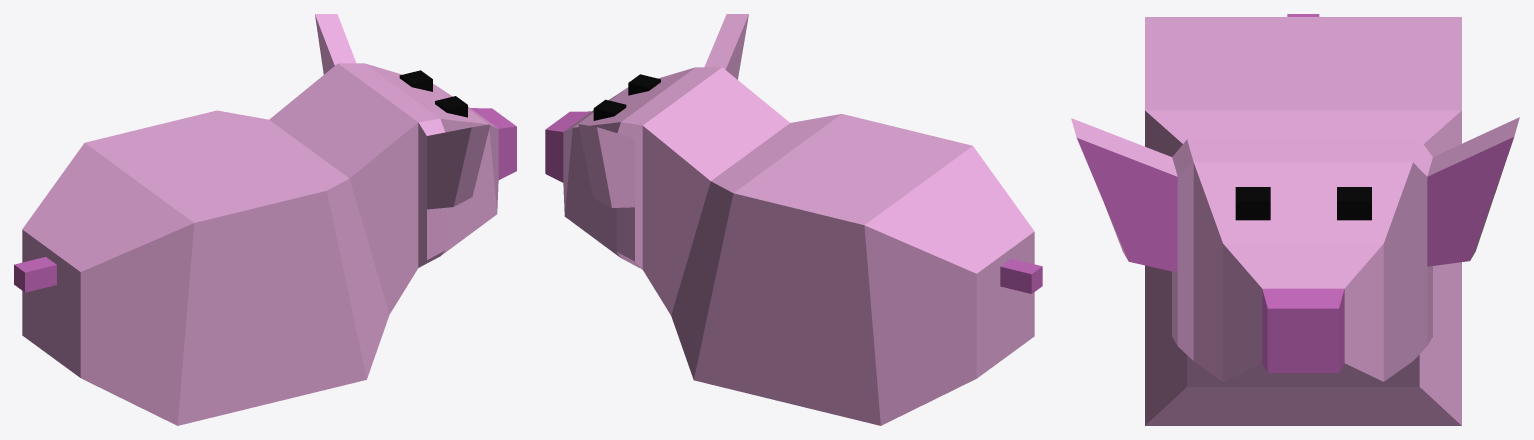
The model's file is Pig.fbx.
The picture shows the model from 3 angles, left to right: view 1: azimuth 30°, elevation 25°; view 2: azimuth 150°, elevation 25°; view 3: azimuth 270°, elevation 25°; orthographic projection. The views are drawn at different scales.
Parts seen in each view (by area): view 1: Cube, Cube.002, Cube.001; view 2: Cube, Cube.002, Cube.001; view 3: Cube, Cube.001, Cube.002.
Part boxes in pixels (<box>): Cube: <box>14,14,516,425</box>; Cube.002: <box>399,70,432,91</box>; Cube.001: <box>435,96,467,117</box>; Cube: <box>545,14,1042,425</box>; Cube.002: <box>593,99,626,120</box>; Cube.001: <box>628,74,660,95</box>; Cube: <box>1071,14,1519,425</box>; Cube.001: <box>1235,187,1270,220</box>; Cube.002: <box>1337,187,1371,220</box>.
Size of the model in its own units: 510 by 253 by 283.
